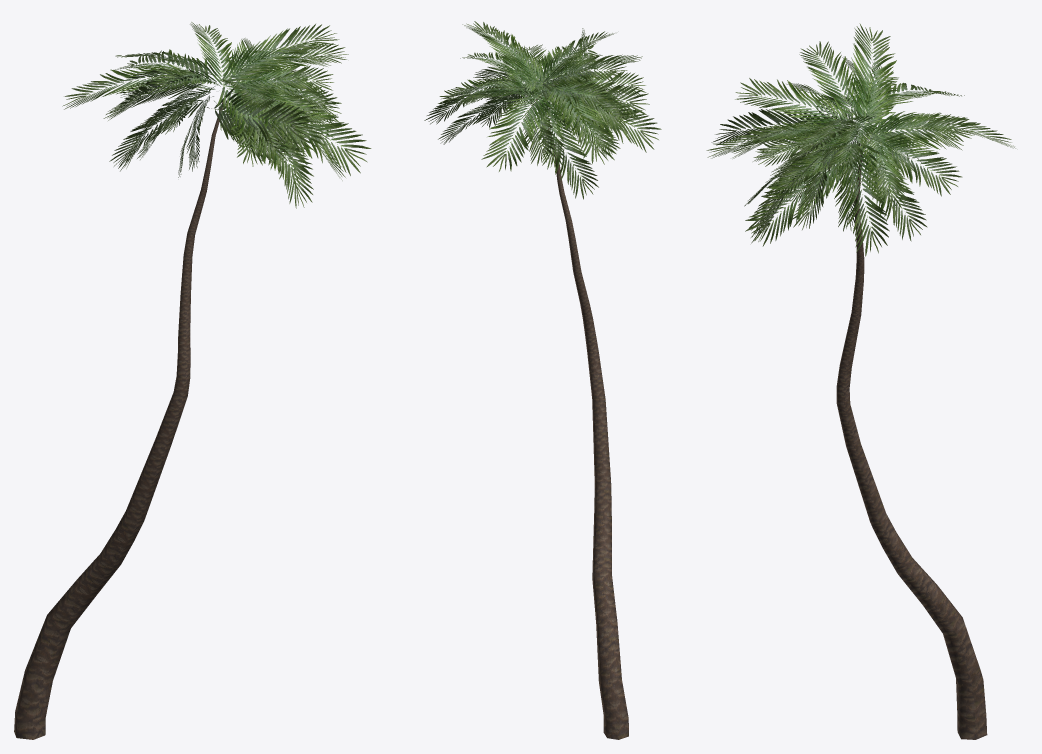
Rendered from palm4.fbx.
The picture shows the model from 3 angles, left to right: view 1: azimuth 30°, elevation 25°; view 2: azimuth 150°, elevation 25°; view 3: azimuth 270°, elevation 25°; orthographic projection. The views are drawn at different scales.
Visible parts, largest first — view 1: list.030, tree; view 2: list.030, tree; view 3: list.030, tree.
Boxes of the visible parts, x1,y1,x2,y2 form: list.030: [62, 22, 371, 208]; tree: [14, 102, 223, 739]; list.030: [424, 21, 661, 199]; tree: [535, 99, 628, 739]; list.030: [706, 23, 1015, 256]; tree: [836, 154, 987, 739].
Bounding box in the file's own units: 420 × 1033 × 415.
